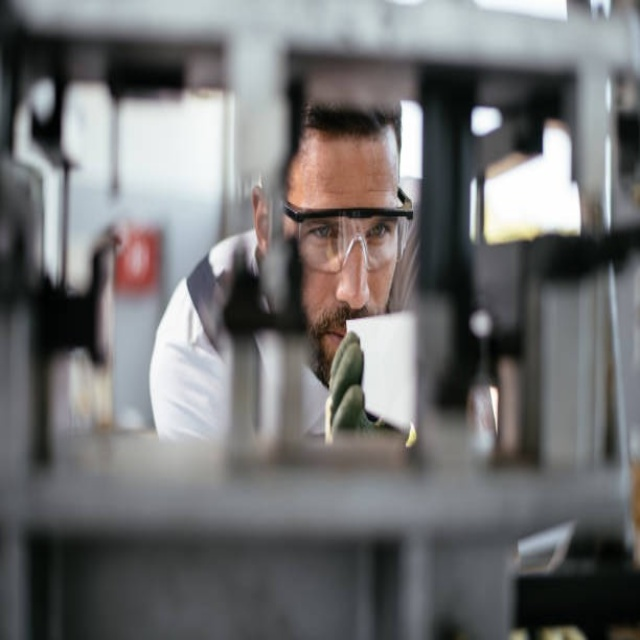Gafas: (285, 196, 414, 273)
Guantes: (325, 333, 416, 446)
